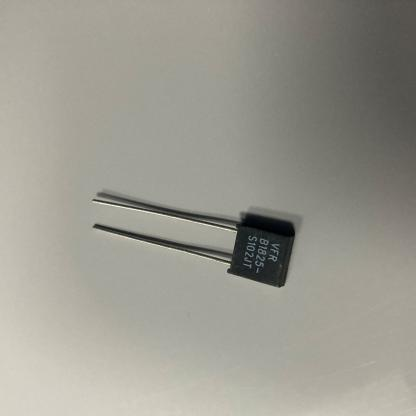SP0000007: (61, 151, 337, 320)
